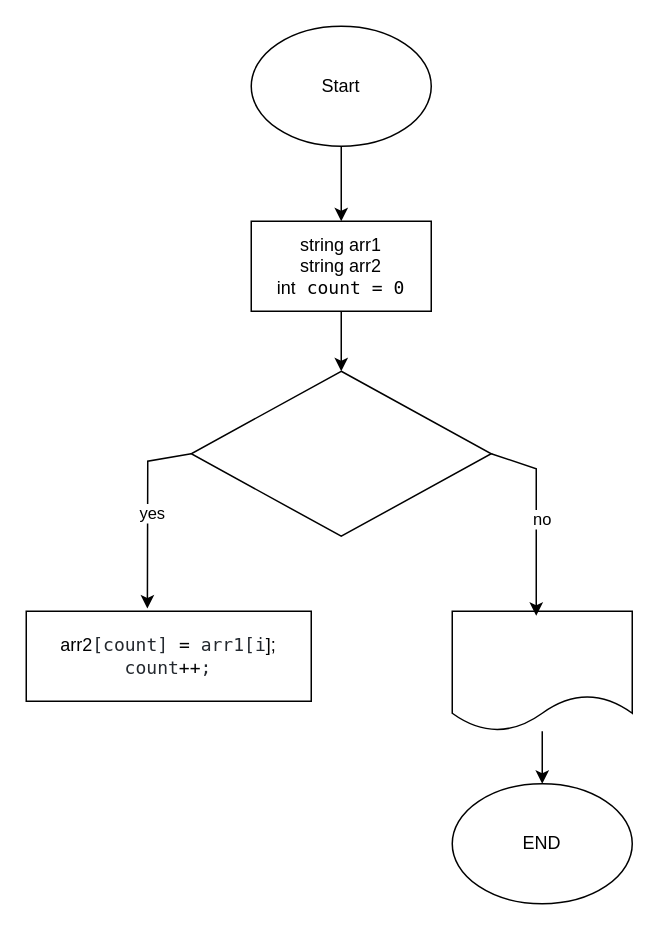
The diagram is 659 pixels wide and 930 high, and some of its shapes have lost their labels. Here are the shapes that lost their labels. From the top down, the centre of each, then its label:
At (340,453): "for ( int i = 0 ; i < arr1 . Length ; i ++ ) arr1 . Length <= 3".
At (541,670): "Print arr2".
